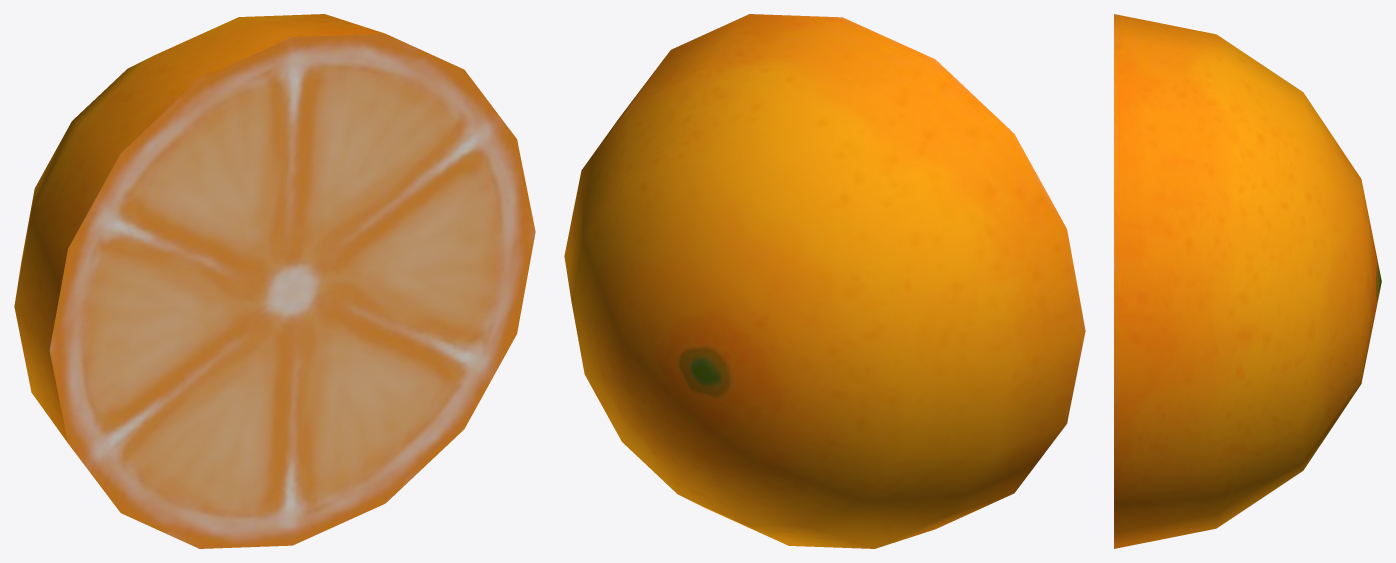
The model's file is orange_slice.glb.
3 renders of one model, left to right at view 1: azimuth 30°, elevation 25°; view 2: azimuth 150°, elevation 25°; view 3: azimuth 270°, elevation 25°, orthographic. The views are drawn at different scales.
Parts seen in each view (by area): view 1: OrangeSlice; view 2: OrangeSlice; view 3: OrangeSlice.
Part boxes in pixels (bbox=[...]): OrangeSlice: bbox=[14, 14, 535, 548]; OrangeSlice: bbox=[564, 14, 1085, 548]; OrangeSlice: bbox=[1114, 14, 1381, 548].
Bounding box in the file's own units: 1.25 × 1.25 × 0.6263.
1 material, 1 textured.
